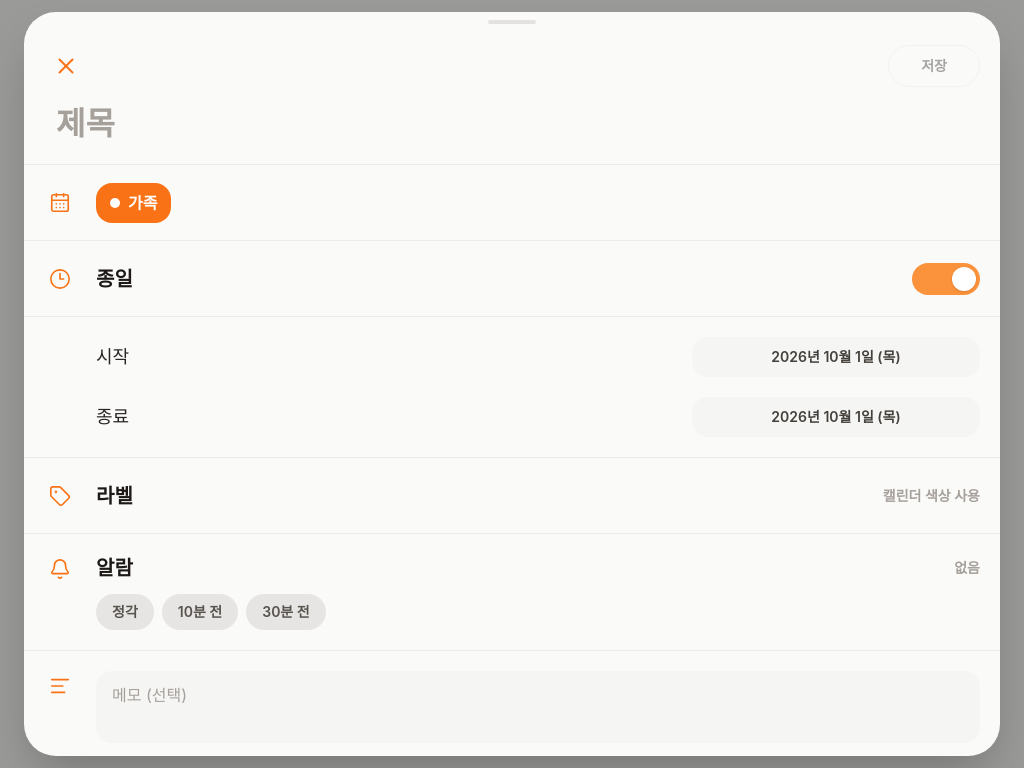
EventFormModal › 종일 해제 시 시간 버튼이 나타난다
The image size is (1024, 768).
What coordinates should you click on to do the following:
click the button named "종일"
I would click on:
 (946, 278)
Its box is [912, 262, 980, 294].
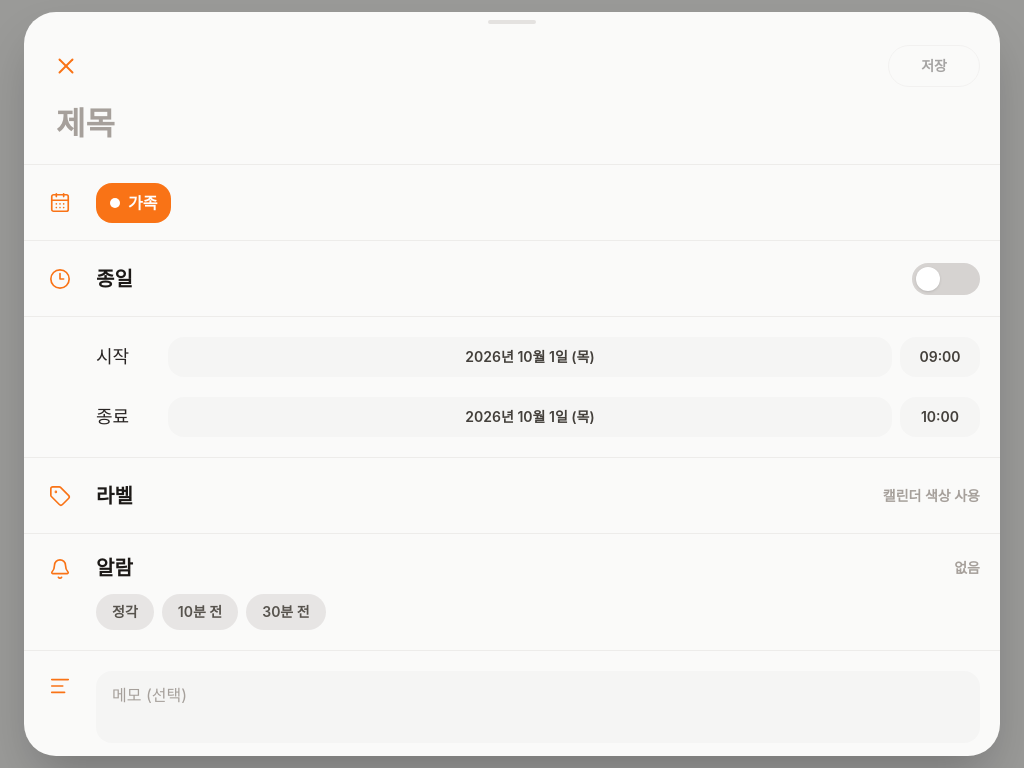
expect the button "09:00" is shown: met, box [900, 337, 980, 377]
expect the button "10:00" is shown: met, box [900, 397, 980, 437]
